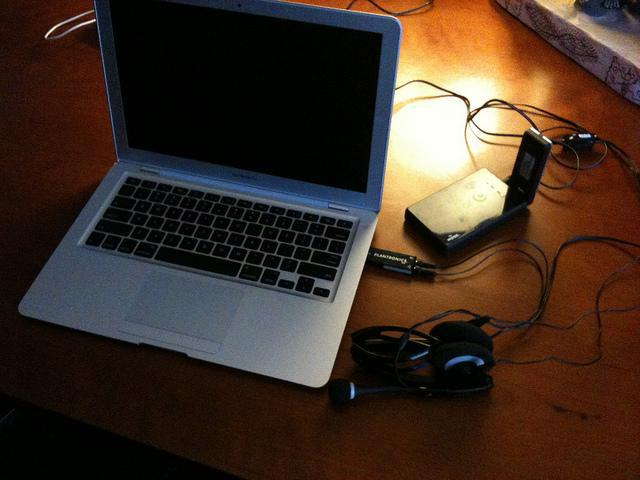tv: (89, 4, 378, 361)
